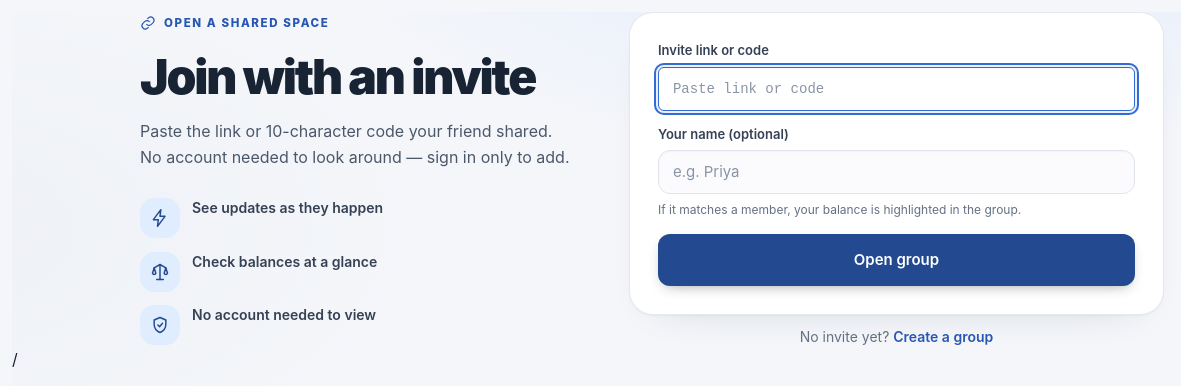
Test: JoinGroup › opens full invite links directly
Type "https://x.test/g/ABCDEF123456789012345" into the field labelled "Invite link or code".
click(896, 88); type("https://x.test/g/ABCDEF123456789012345")  # box [658,66,1135,110]
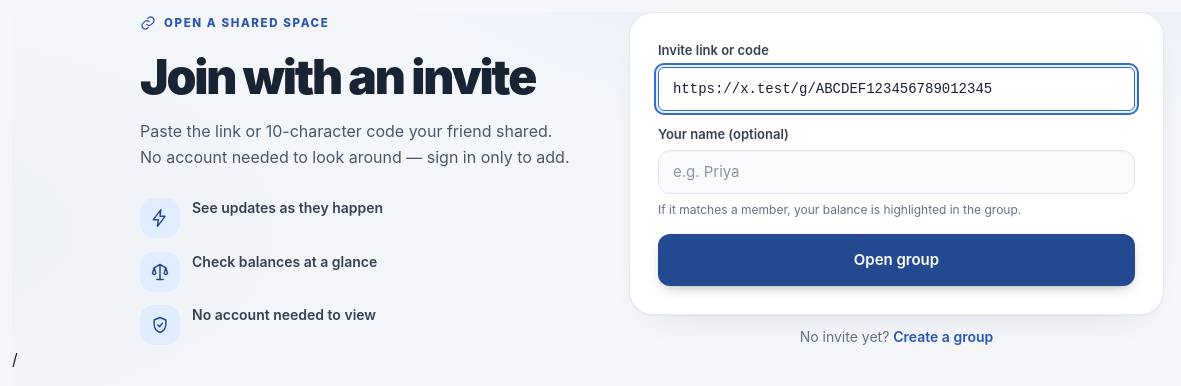
Click the button "Open group".
click(896, 260)  # box [658,234,1135,286]
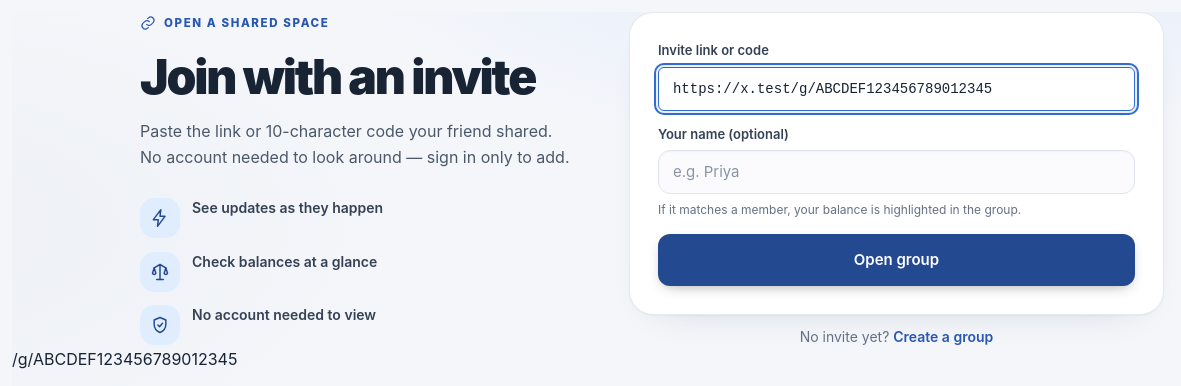
Now the text with test id "path" reads "/g/ABCDEF123456789012345", box [12,348,237,368]
